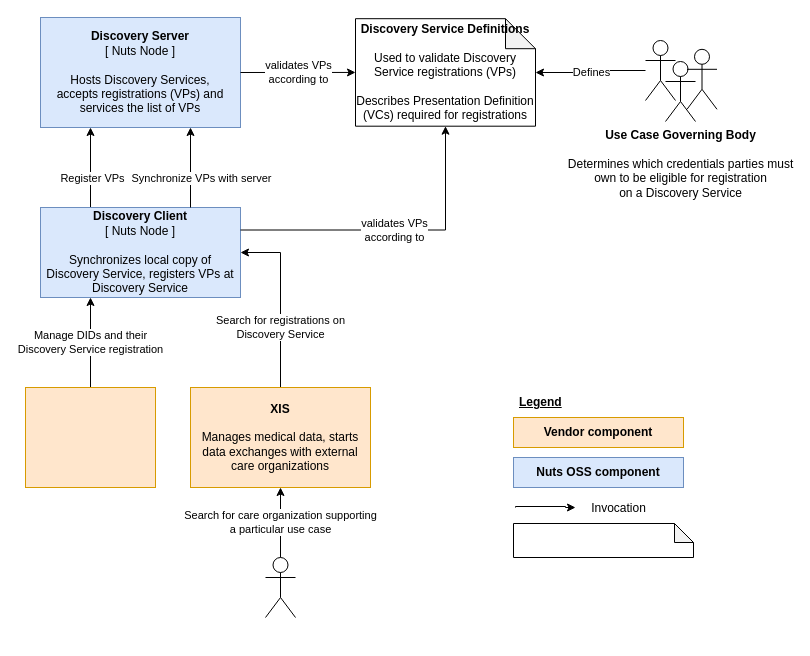
Some shapes in this 810 by 656 pixel diagram are drawn without their labels. The centre of each missing label's shape, as x and y in pixels:
"Care Professional" goes at (280,587).
"Configuration artifact" goes at (603,540).
"CRM Manages care organization DIDs" goes at (90,437).
